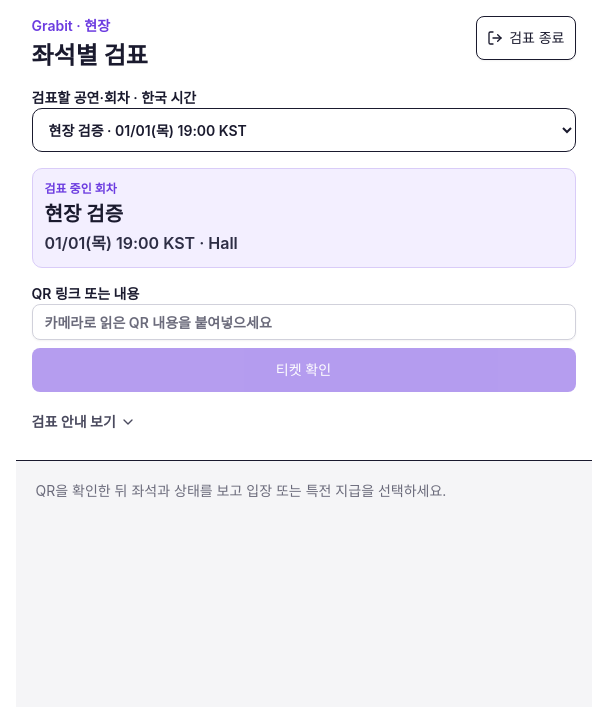
Test: FieldCheckInPage offline duplicate guard (#116) › blocks a second offline entry for the same QR after moving to the next ticket
Type "raw-ticket-token-for-benefit-redemption" into the password field labelled "QR 링크 또는 내용". click: x=304, y=322
box: [32,304,576,340]
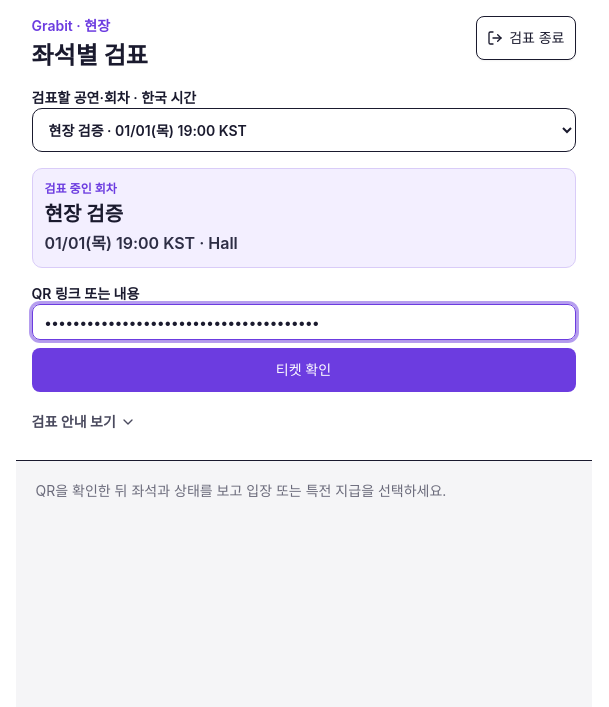
Click the button "티켓 확인". click: x=304, y=370
box: [32,348,576,392]
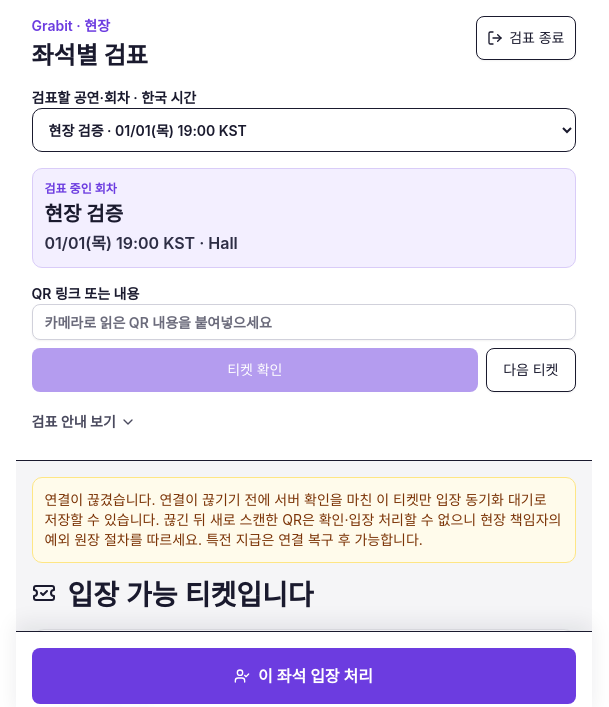
Check: the button "이 좌석 입장 처리" is shown
Click the button "이 좌석 입장 처리". click: x=304, y=676
box: [32,648,576,704]
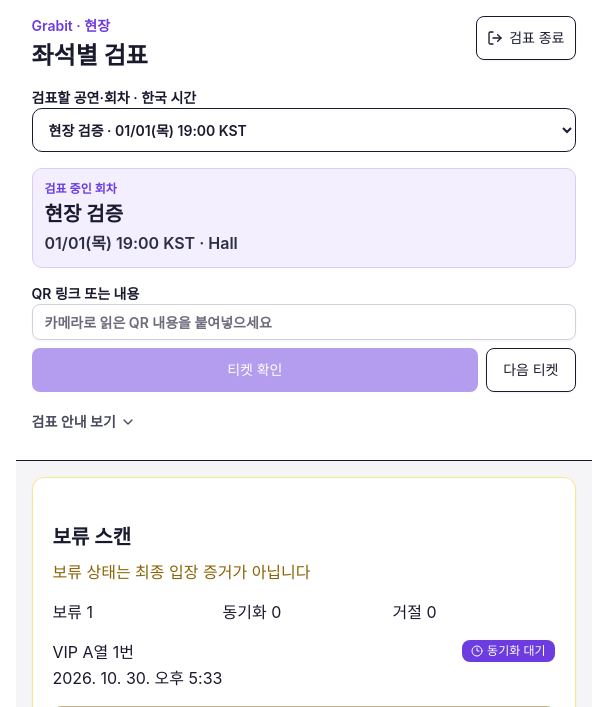
// A screenshot copy of the same QR: the cached verify result is still "processable".
Click the button "다음 티켓". click: x=531, y=370
box: [486,348,576,392]
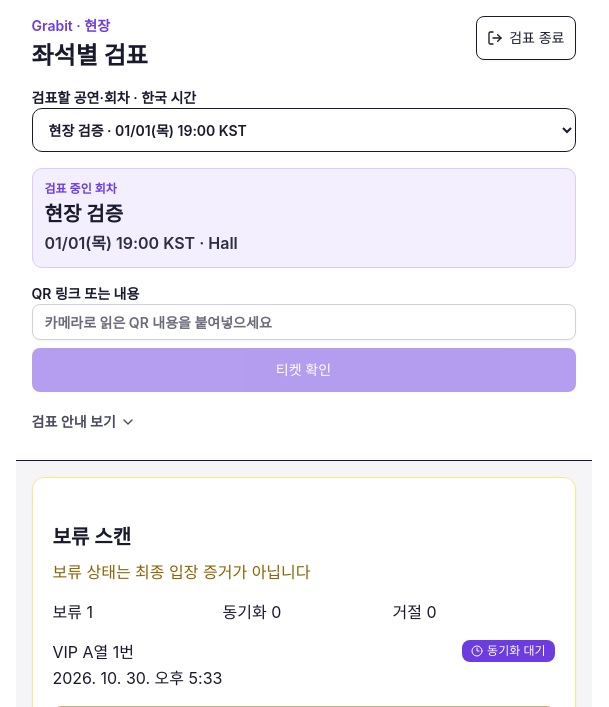
Type "raw-ticket-token-for-benefit-redemption" into the password field labelled "QR 링크 또는 내용". click: x=304, y=322
box: [32,304,576,340]
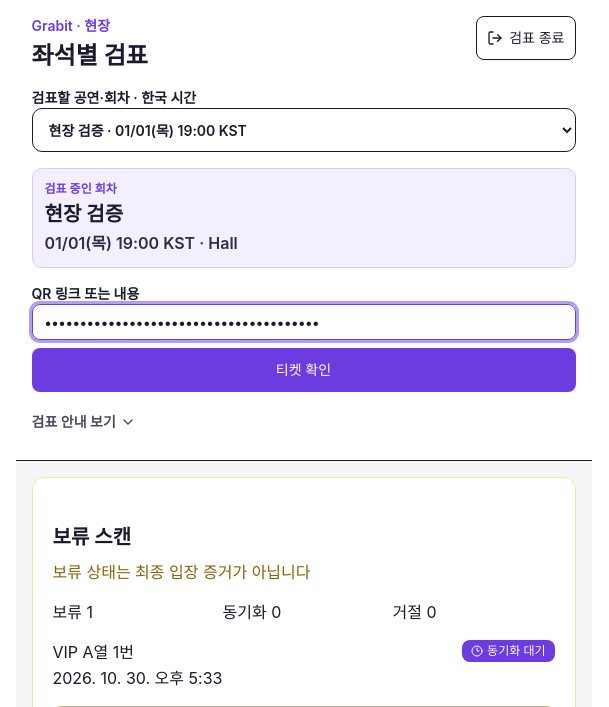
Click the button "티켓 확인". click: x=304, y=370
box: [32,348,576,392]
(page scrolled)
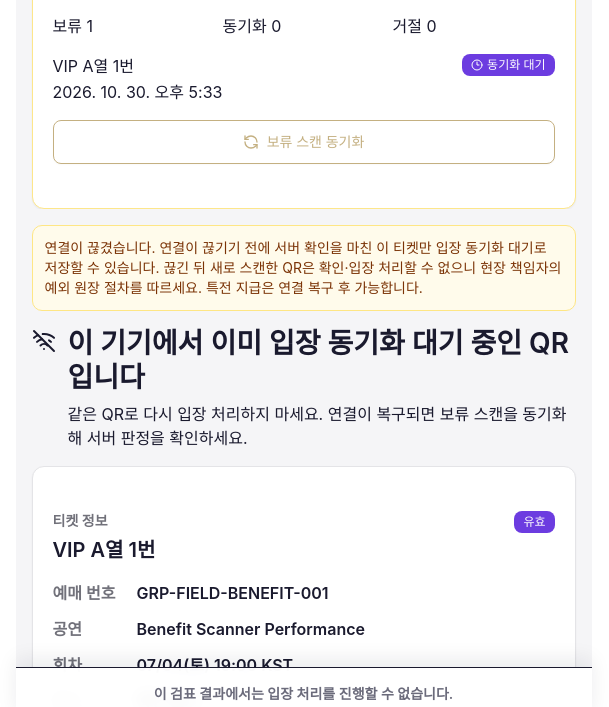
Check: the button "이 좌석 입장 처리" is not shown
Check: the text "이 기기에서 이미 입장 동기화 대기 중인 QR입니다" is shown, box [68,327,576,394]
